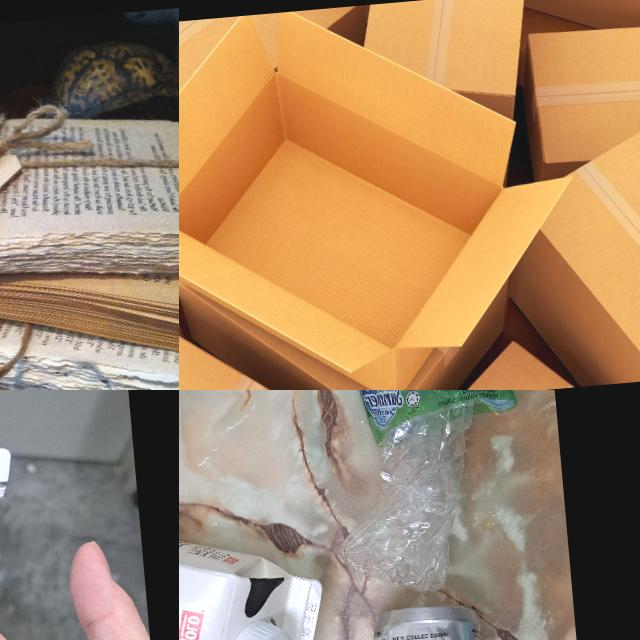caixinha: (179, 495, 332, 640)
garrafa plástica: (179, 0, 586, 390), (310, 390, 531, 599), (0, 487, 59, 640)
papel: (0, 80, 179, 390)
tampa plástica: (227, 621, 296, 640)
